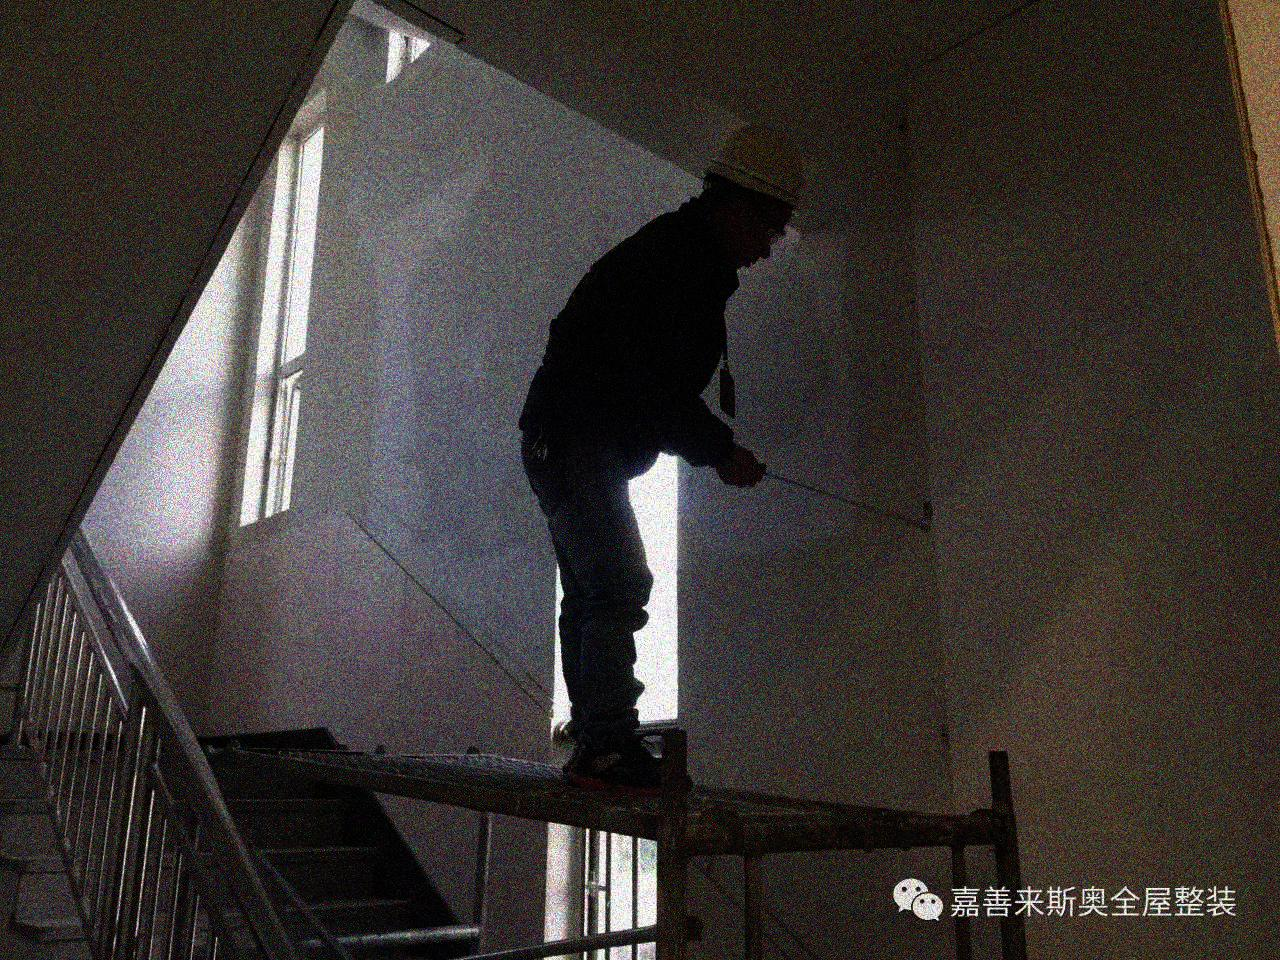helmet: (696, 122, 808, 269)
